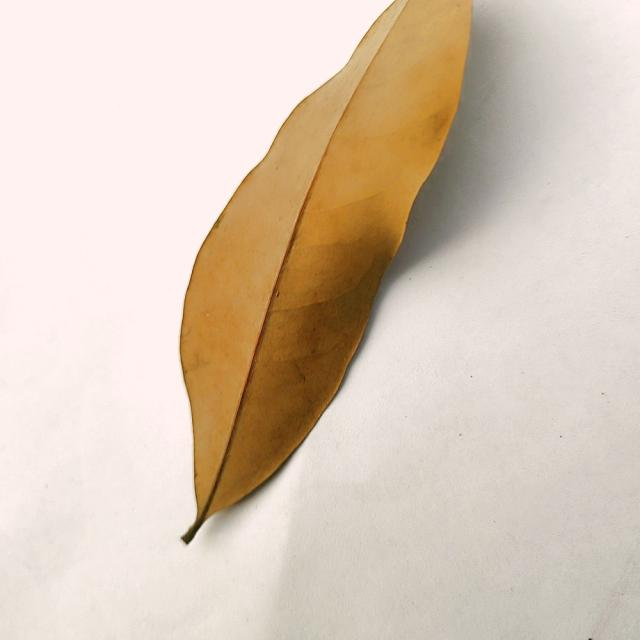Dry_Leaf-Lychee: (180, 0, 474, 546)
